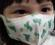with_mask: (2, 1, 55, 45)
